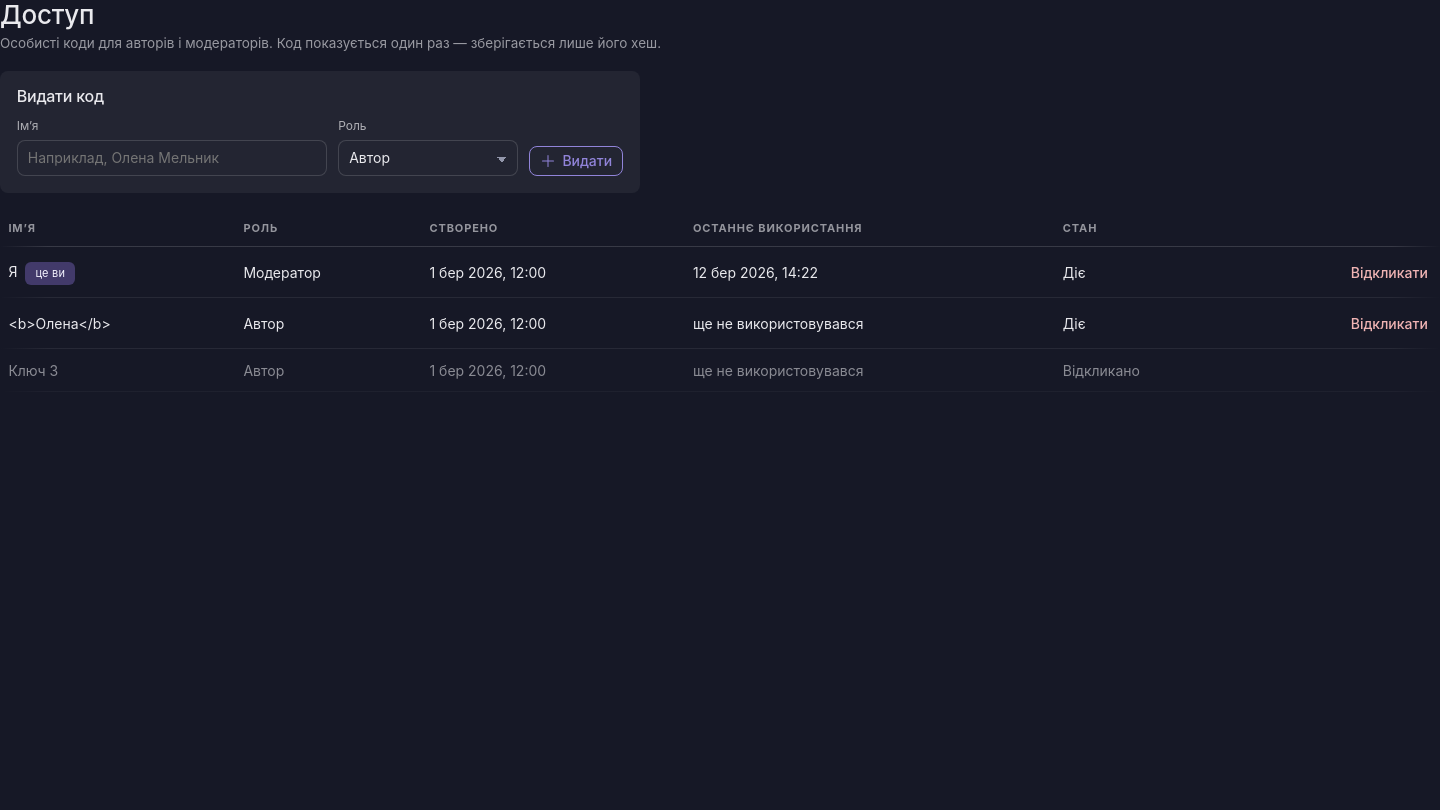
AccessComponent › DW-7.4 copy writes the code to the clipboard and says so
In the field with id "key-label": (172, 158) [17,140,327,176], type "Ірина"
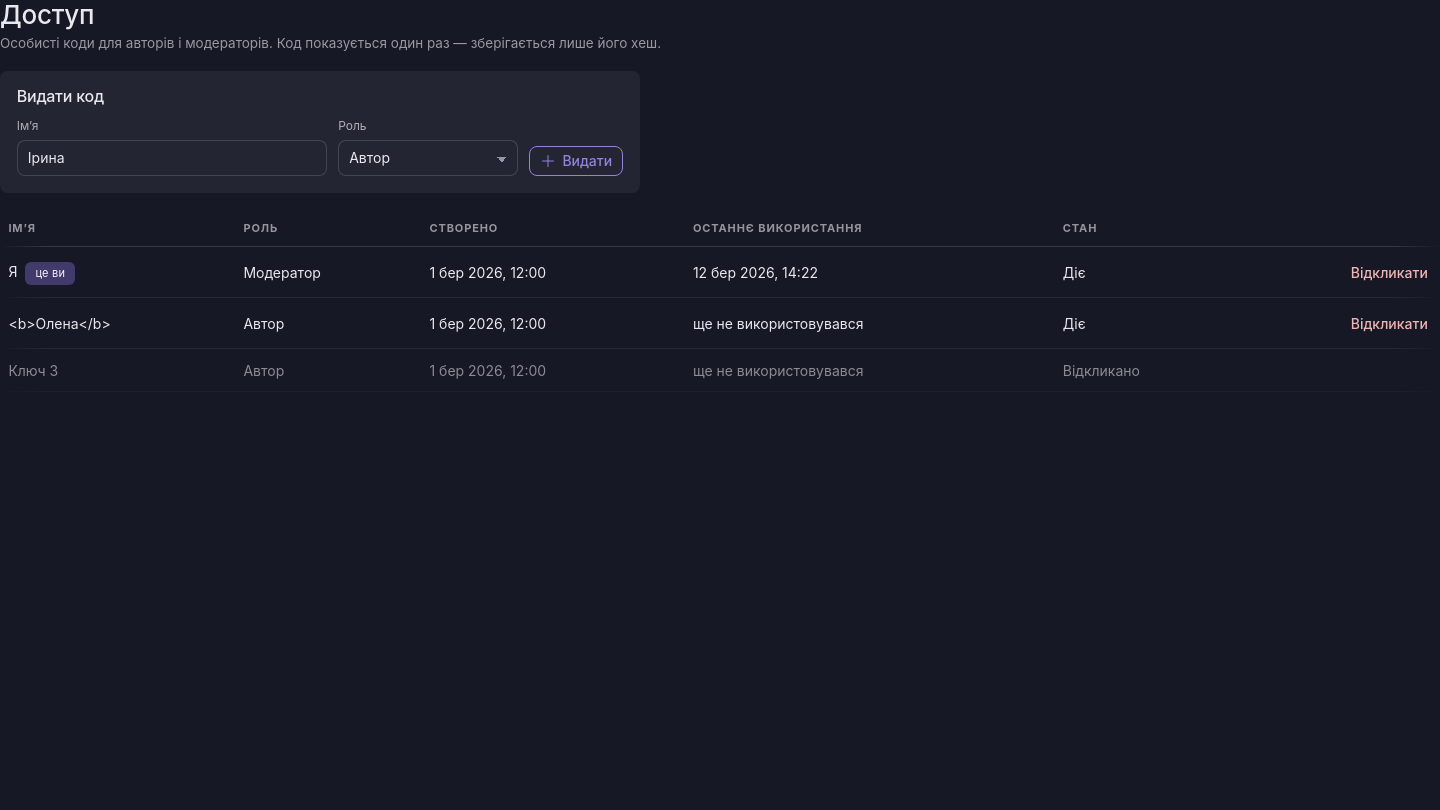
Select "Автор" in the dropdown with id "key-role": (428, 158) [338,140,518,176]
Submit the form, box [17,117,623,176]
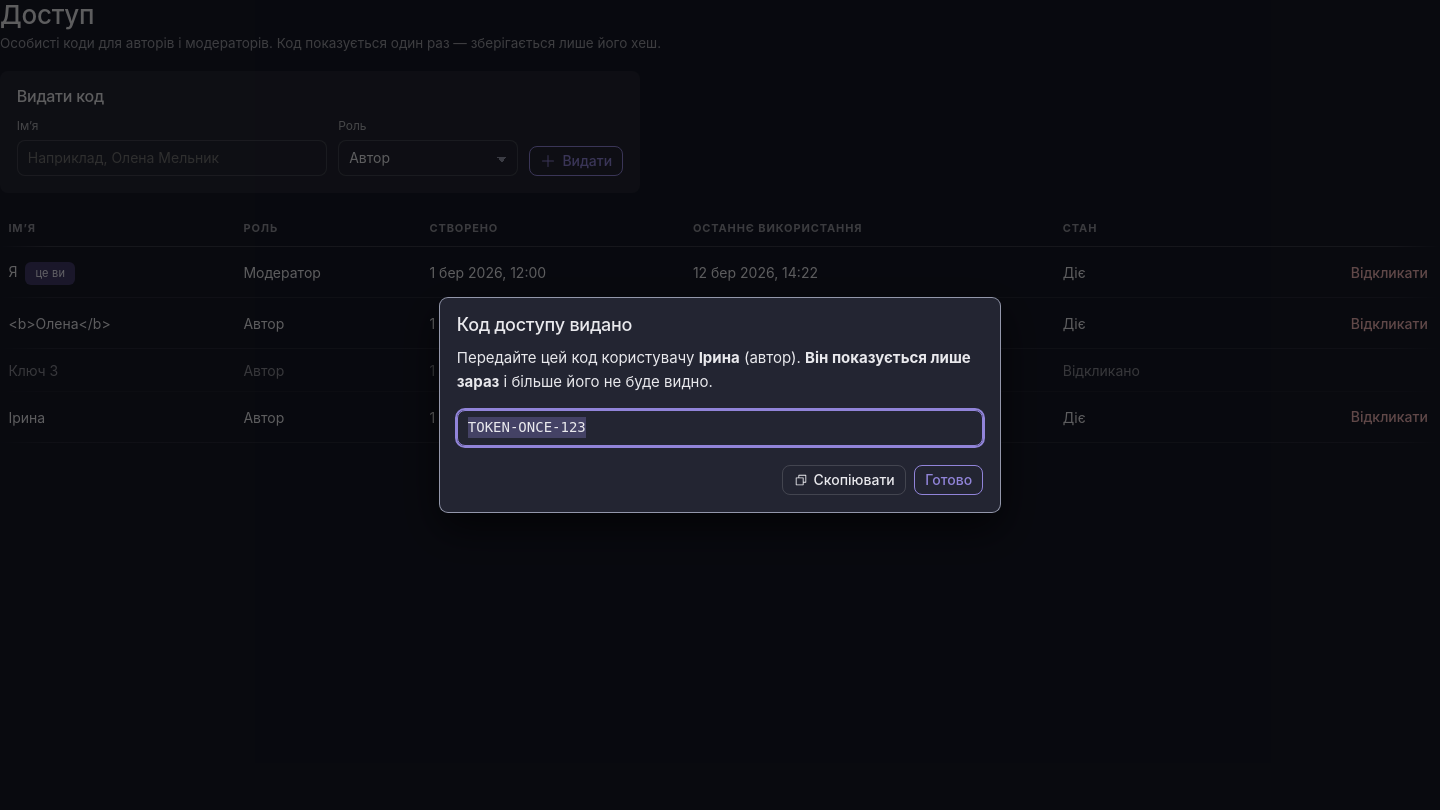
Click the button "Скопіювати": (844, 480) [782,465,906,495]
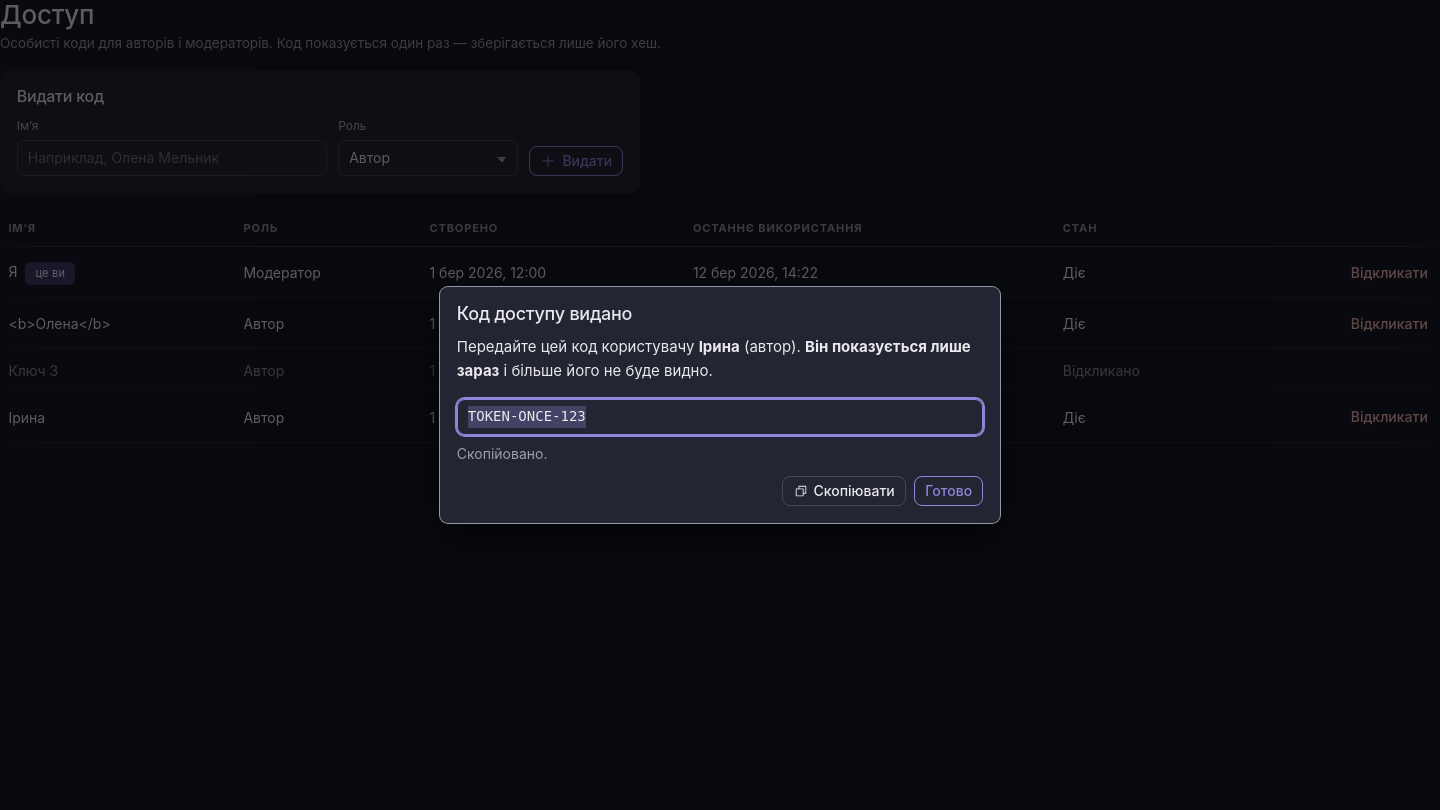
Expected: the text "Скопійовано." is shown, [457,445,547,462]
